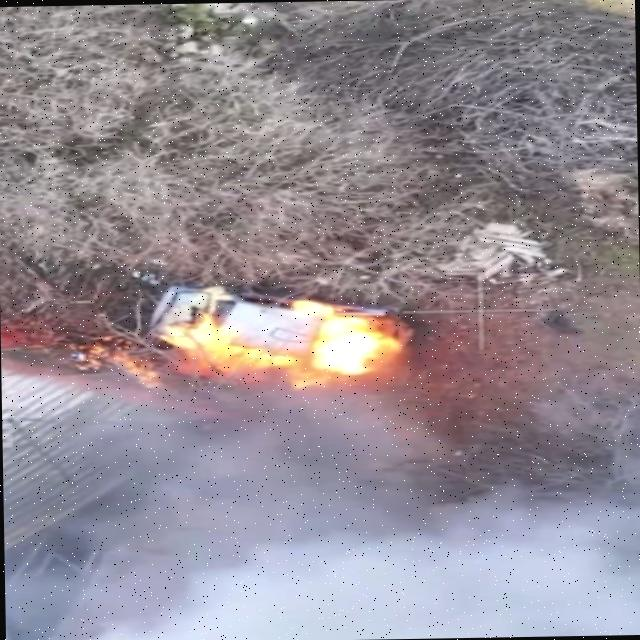Destroyed: (138, 280, 413, 369)
